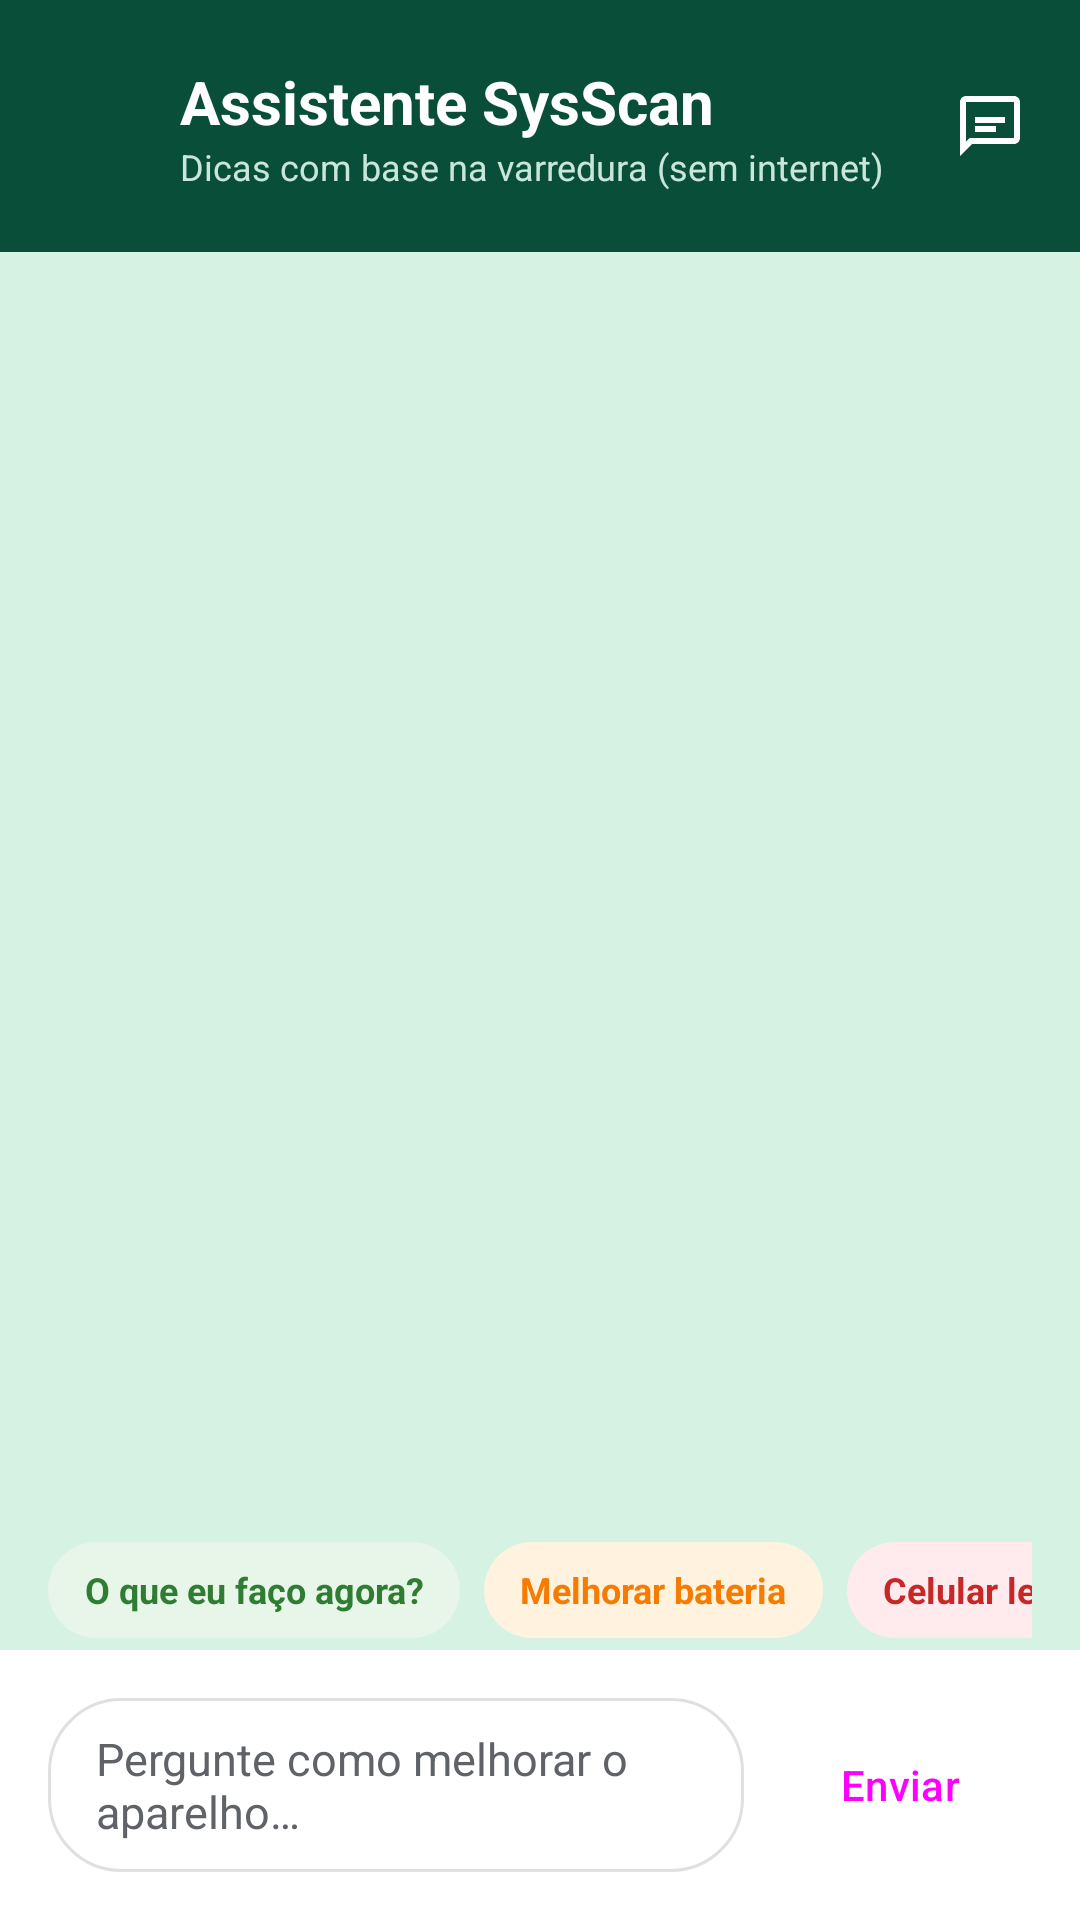

Named icons in this screenshot (1080w x 1920h) and their bounding boxes, BBox(x1, y1, x2, y2):
IA online (opcional): BBox(960, 96, 1020, 156)
